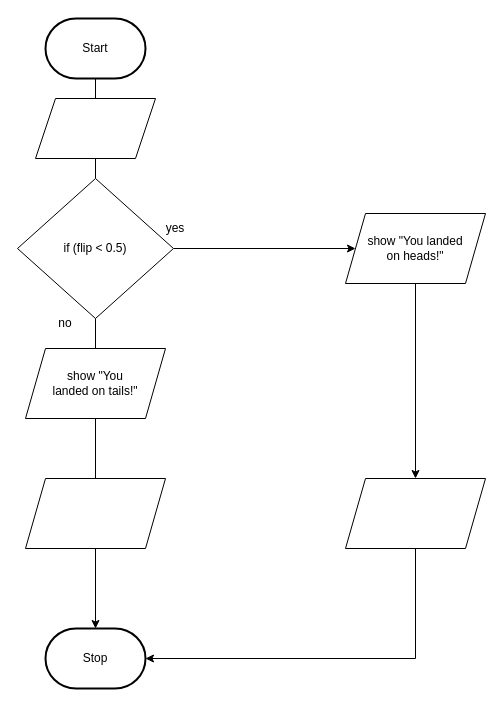
The diagram is 503 pixels wide and 706 high, and some of its shapes have lost their labels. Each missing label, with the centre of its shape:
show heads image: [415,513]
show tails image: [95,513]
user clicks button to flip: [95,128]
